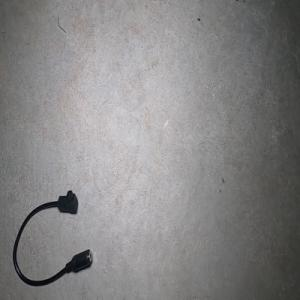Wire: (12, 190, 92, 286)
